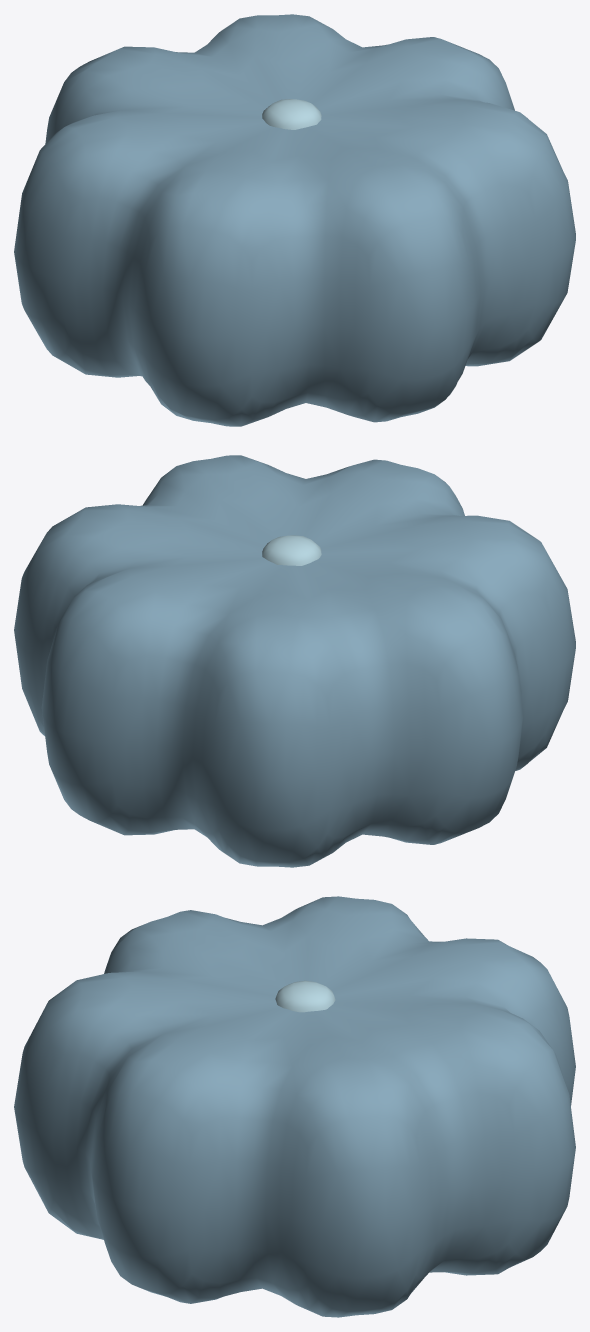
The model's file is Ottoman_1.glb.
3 renders of one model, top to bottom at view 1: azimuth 30°, elevation 25°; view 2: azimuth 150°, elevation 25°; view 3: azimuth 270°, elevation 25°, orthographic.
Parts seen in each view (by area): view 1: Ottoman_1; view 2: Ottoman_1; view 3: Ottoman_1.
Part boxes in pixels (x1,y1,x2,y2): Ottoman_1: (14, 14, 575, 426); Ottoman_1: (14, 455, 575, 867); Ottoman_1: (14, 896, 575, 1317).
Size of the model in its own units: 1.09 by 0.5085 by 1.07.
Materials: 1 (1 with a texture image).
